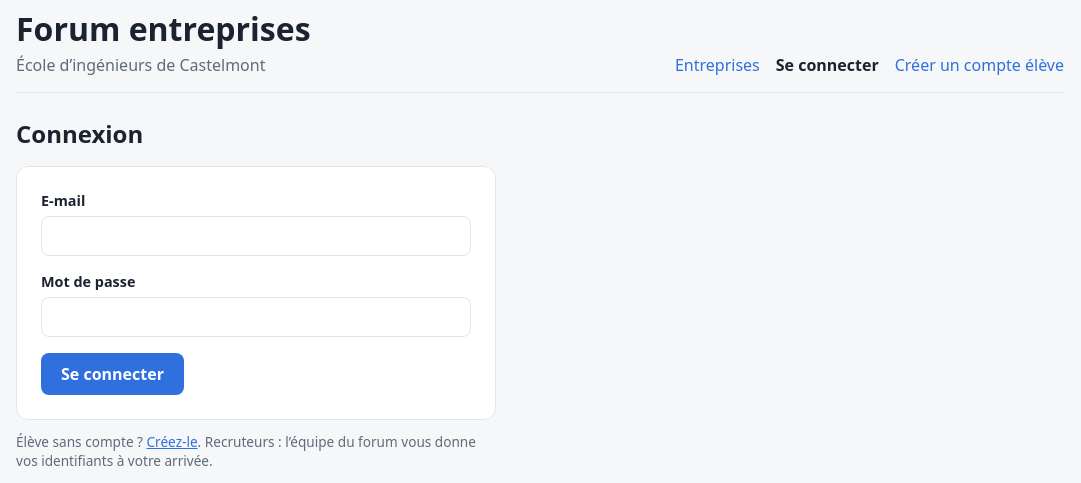
Scenario: LoginPage › sends a recruiter straight to their schedule
Type "sophie@company.test" into the field labelled "E-mail" at [256, 236], box [41,216,471,256]
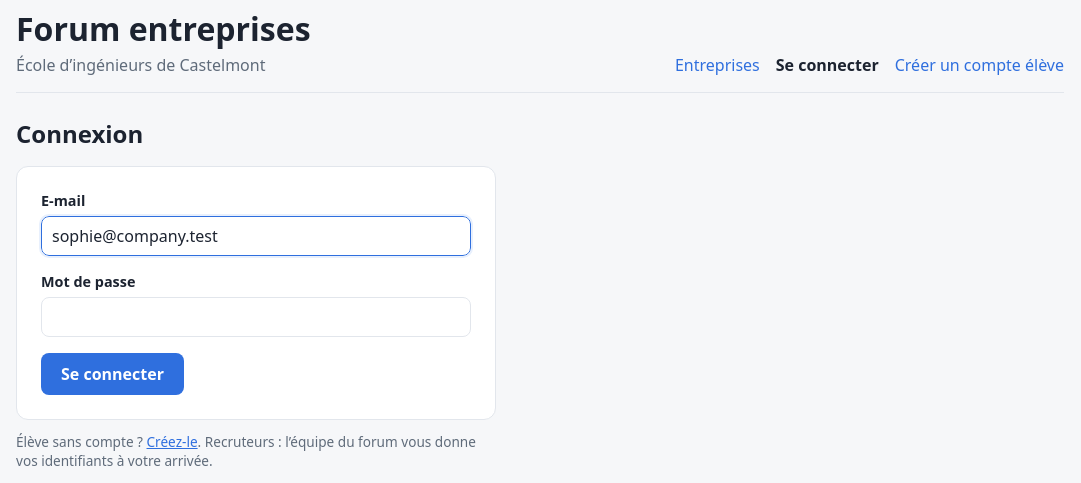
Type "password" into the password field labelled "Mot de passe" at [256, 317], box [41,297,471,337]
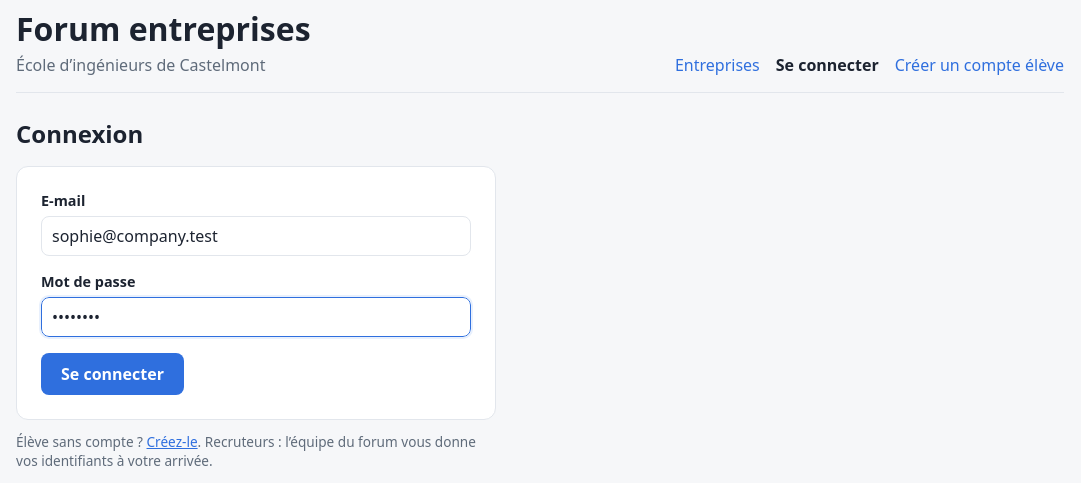
Click the button "Se connecter" at [112, 374], box [41,353,184,395]
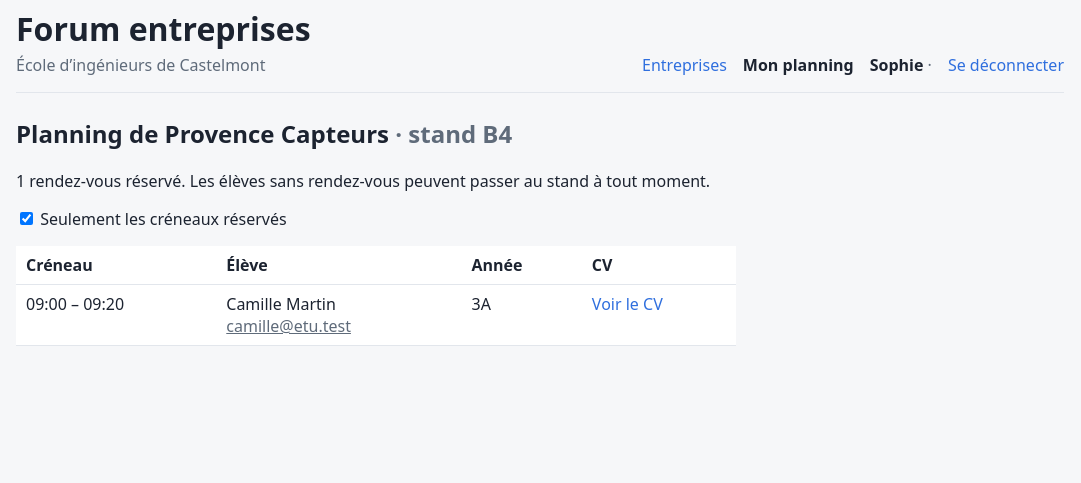
Check: the heading "Planning de Provence Capteurs · stand B4" is shown, box [16,117,512,150]
